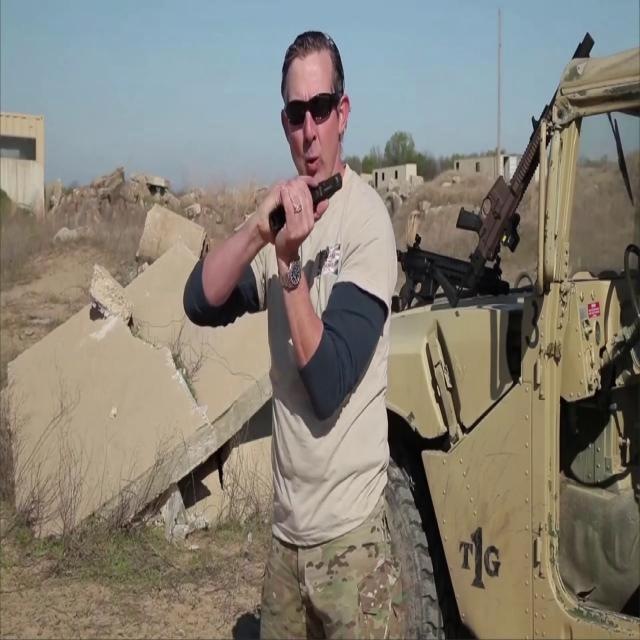weapon: (430, 31, 596, 308), (398, 233, 510, 311), (268, 171, 344, 234)
